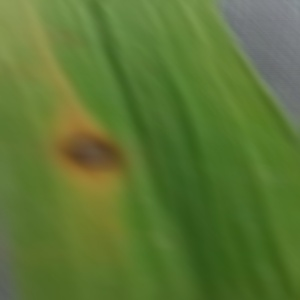Bacterial_Leaf_Blight: (45, 111, 136, 194), (56, 27, 88, 49)
